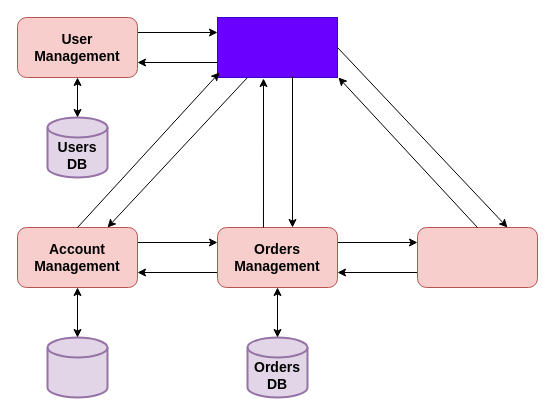
Some shapes in this 555 by 416 pixel diagram are drawn without their labels. The centre of each missing label's shape, as x and y in pixels:
"Account DB" belongs at (77,367).
"Quotes Management" belongs at (477,257).
"Web" belongs at (277,47).
